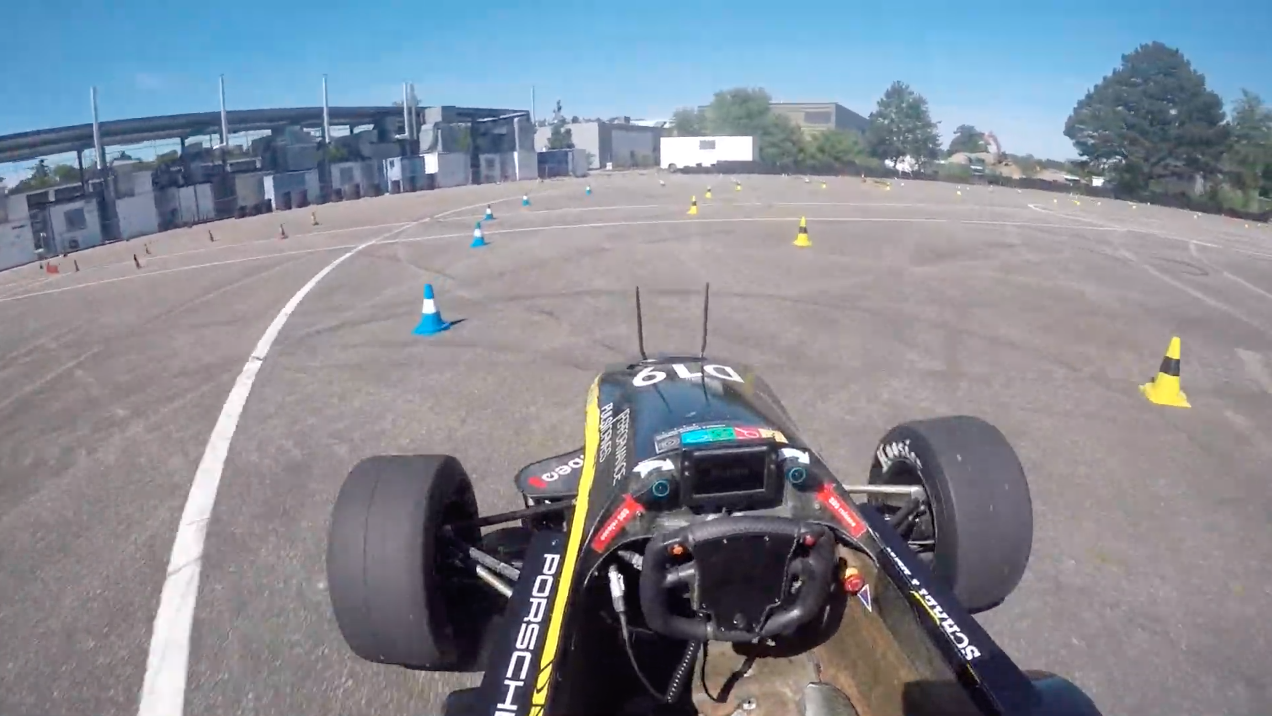lcone: (411, 283, 453, 339), (465, 218, 490, 251)
rcone: (1136, 332, 1199, 410), (789, 214, 814, 247)
